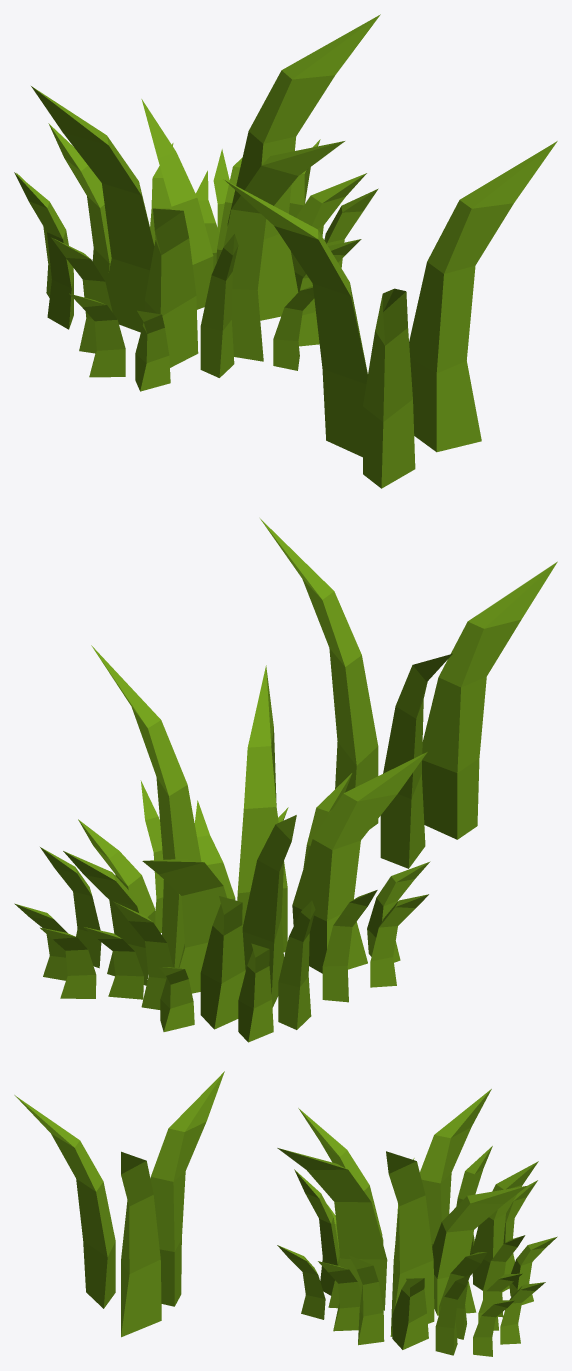
The model's file is highGrass_01.glb.
3 renders of one model, top to bottom at view 1: azimuth 30°, elevation 25°; view 2: azimuth 150°, elevation 25°; view 3: azimuth 270°, elevation 25°, orthographic. The views are drawn at different scales.
Parts seen in each view (by area): view 1: Grass_Patch_004, Grass_001; view 2: Grass_Patch_004, Grass_001; view 3: Grass_Patch_004, Grass_001.
Part boxes in pixels (x1,y1,x2,y2): Grass_Patch_004: [14, 14, 380, 391]; Grass_001: [225, 141, 557, 488]; Grass_Patch_004: [14, 645, 430, 1042]; Grass_001: [260, 518, 557, 868]; Grass_Patch_004: [277, 1089, 557, 1356]; Grass_001: [14, 1071, 224, 1337].
Bounding box in the file's own units: 4.03 × 3.28 × 7.55.
